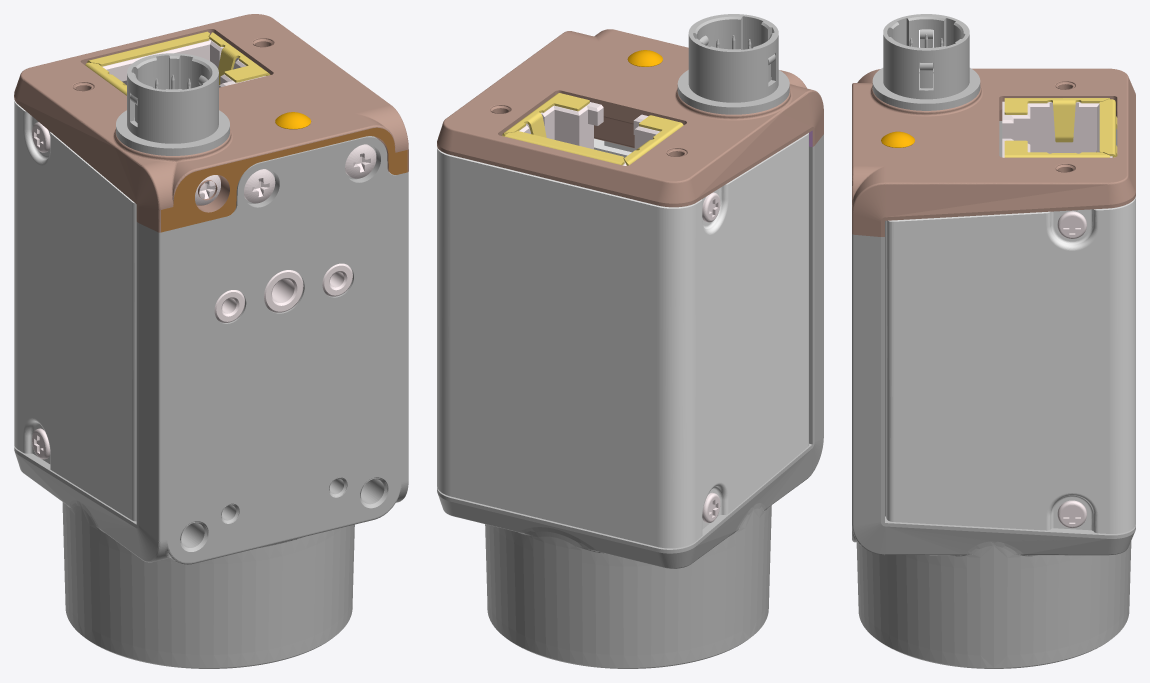
File: camera.glb
3 renders of one model, left to right at view 1: azimuth 30°, elevation 25°; view 2: azimuth 150°, elevation 25°; view 3: azimuth 270°, elevation 25°, orthographic. The views are drawn at different scales.
Parts seen in each view (by area): view 1: Node4, Node8, Node3, Node5, Node7, Node13, Node2, Node1, Node10; view 2: Node1, Node4, Node8, Node3, Node5, Node7, Node2, Node10; view 3: Node1, Node4, Node3, Node5, Node7, Node2, Node8, Node10, Node17.
Part boxes in pixels (box(x1,y1,x2,y2)): Node4: box(14, 136, 408, 668); Node8: box(18, 105, 136, 521); Node3: box(14, 14, 408, 232); Node5: box(116, 53, 229, 155); Node7: box(32, 39, 376, 459); Node13: box(161, 127, 407, 232); Node2: box(85, 31, 270, 95); Node1: box(14, 100, 18, 449); Node10: box(73, 38, 273, 211); Node1: box(437, 138, 696, 548); Node4: box(437, 134, 823, 668); Node8: box(695, 133, 808, 540); Node3: box(437, 29, 823, 207); Node5: box(677, 14, 789, 114); Node7: box(519, 102, 720, 522); Node2: box(502, 93, 683, 165); Node10: box(490, 88, 790, 156); Node1: box(886, 128, 1135, 533); Node4: box(852, 234, 1135, 668); Node3: box(852, 68, 1135, 236); Node5: box(872, 14, 980, 110); Node7: box(1002, 101, 1112, 528); Node2: box(1004, 98, 1117, 157); Node8: box(885, 121, 1098, 533); Node10: box(871, 81, 1075, 172); Node17: box(881, 131, 914, 147).
Size of the model in its own units: 29 by 61.7 by 29.
